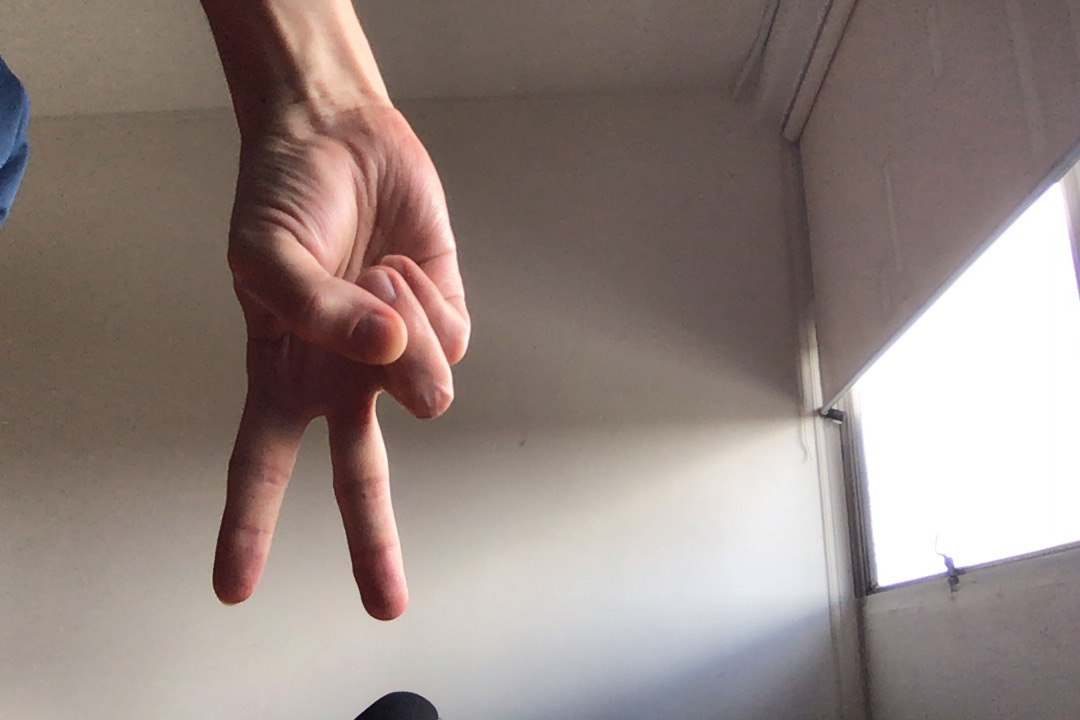peacesign: (201, 108, 482, 626)
